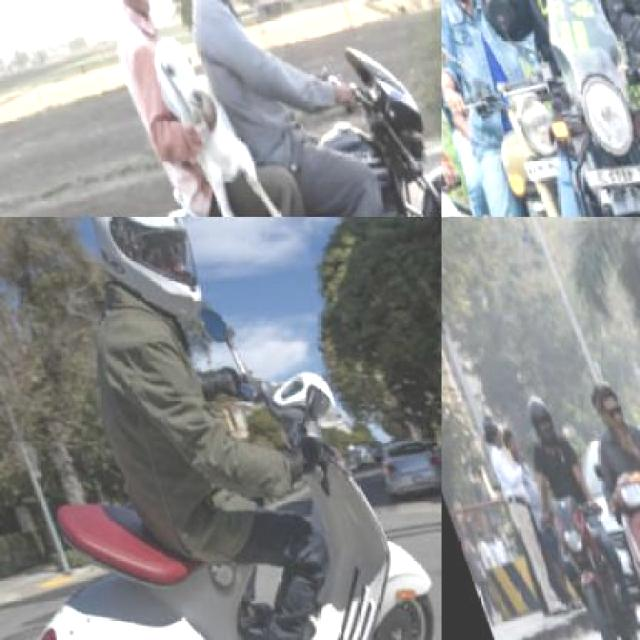With Helmet: (69, 217, 222, 340), (511, 382, 564, 456)
Without Helmet: (582, 368, 632, 447), (79, 0, 166, 29)
